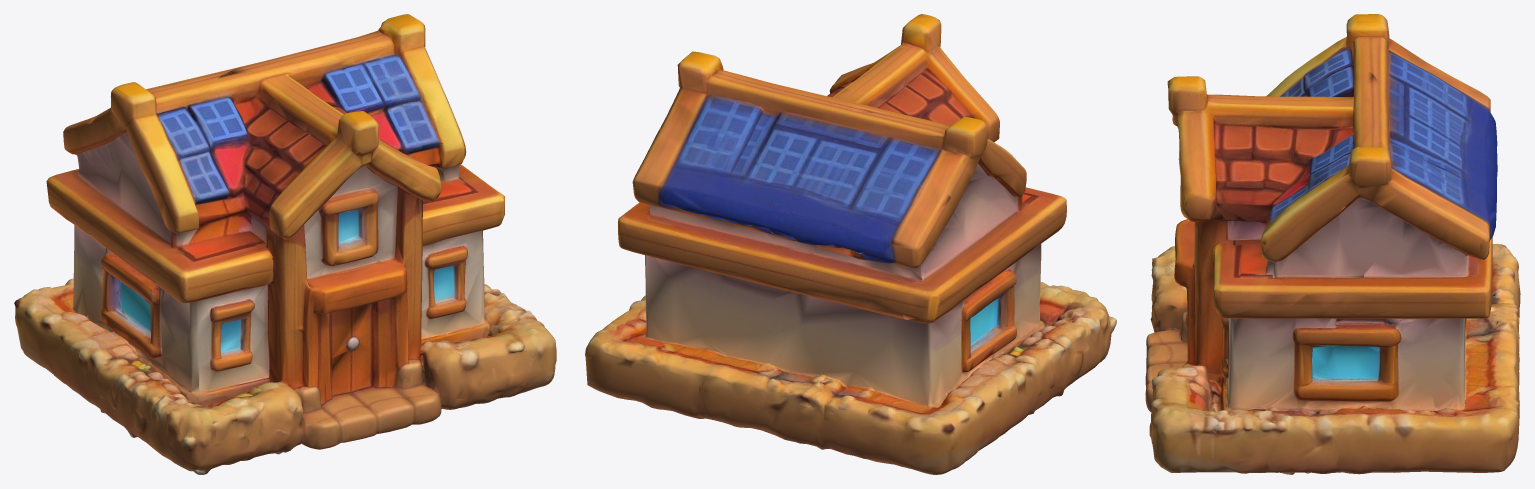
3 renders of one model, left to right at view 1: azimuth 30°, elevation 25°; view 2: azimuth 150°, elevation 25°; view 3: azimuth 270°, elevation 25°, orthographic. The views are drawn at different scales.
Bounding box in the file's own units: 2 × 1.57 × 1.7.
Materials: 1 (1 with a texture image).
